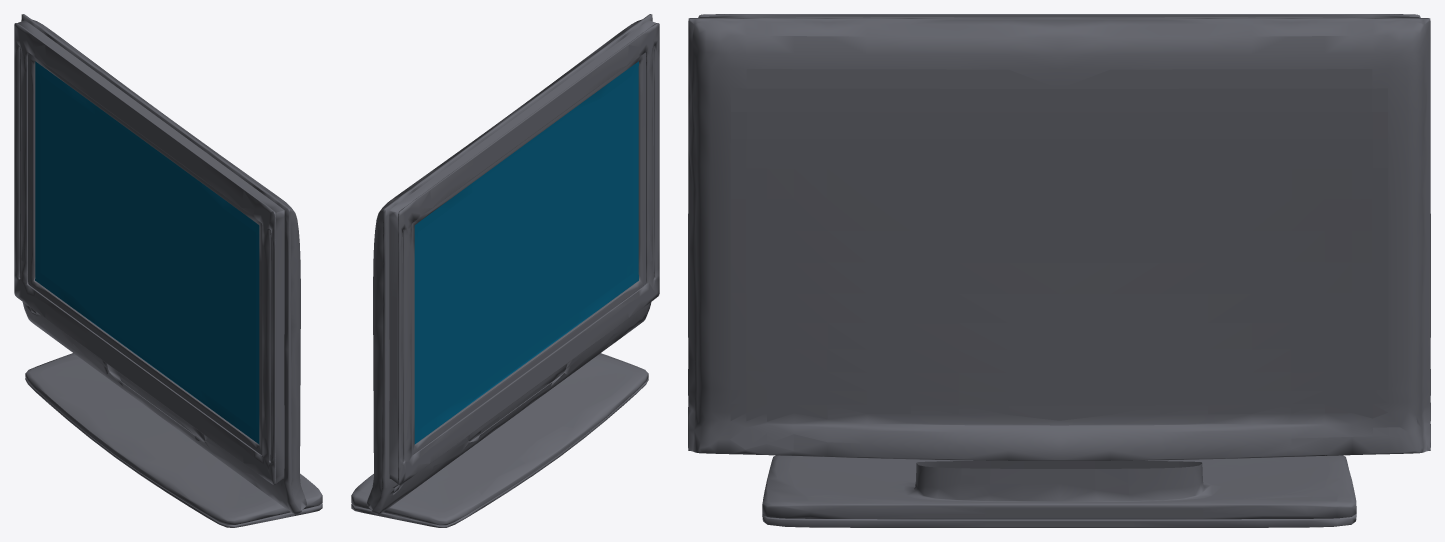
File: television.glb
3 renders of one model, left to right at view 1: azimuth 30°, elevation 25°; view 2: azimuth 150°, elevation 25°; view 3: azimuth 270°, elevation 25°, orthographic. The views are drawn at different scales.
Visible parts, largest first — view 1: Mesh296__e774932b_9b7e_9849_9c58_820bf637441e__no_cull_0.001, Mesh294__649cdcfd_4cd3_1b4a_8f16_0904ae086b11__no_cull_0.001, Mesh295__649cdcfd_4cd3_1b4a_8f16_0904ae086b11__no_cull_0.001; view 2: Mesh296__e774932b_9b7e_9849_9c58_820bf637441e__no_cull_0.001, Mesh294__649cdcfd_4cd3_1b4a_8f16_0904ae086b11__no_cull_0.001, Mesh295__649cdcfd_4cd3_1b4a_8f16_0904ae086b11__no_cull_0.001; view 3: Mesh294__649cdcfd_4cd3_1b4a_8f16_0904ae086b11__no_cull_0.001, Mesh295__649cdcfd_4cd3_1b4a_8f16_0904ae086b11__no_cull_0.001.
Part boxes in pixels (x1=…): Mesh296__e774932b_9b7e_9849_9c58_820bf637441e__no_cull_0.001: x1=35, y1=61, x2=259, y2=444; Mesh294__649cdcfd_4cd3_1b4a_8f16_0904ae086b11__no_cull_0.001: x1=17, y1=14, x2=322, y2=527; Mesh295__649cdcfd_4cd3_1b4a_8f16_0904ae086b11__no_cull_0.001: x1=14, y1=23, x2=275, y2=484; Mesh296__e774932b_9b7e_9849_9c58_820bf637441e__no_cull_0.001: x1=414, y1=61, x2=638, y2=444; Mesh294__649cdcfd_4cd3_1b4a_8f16_0904ae086b11__no_cull_0.001: x1=351, y1=14, x2=656, y2=527; Mesh295__649cdcfd_4cd3_1b4a_8f16_0904ae086b11__no_cull_0.001: x1=398, y1=23, x2=659, y2=484; Mesh294__649cdcfd_4cd3_1b4a_8f16_0904ae086b11__no_cull_0.001: x1=688, y1=16, x2=1430, y2=527; Mesh295__649cdcfd_4cd3_1b4a_8f16_0904ae086b11__no_cull_0.001: x1=698, y1=14, x2=1420, y2=17.
Size of the model in its own units: 10.5 by 31.5 by 45.49.
